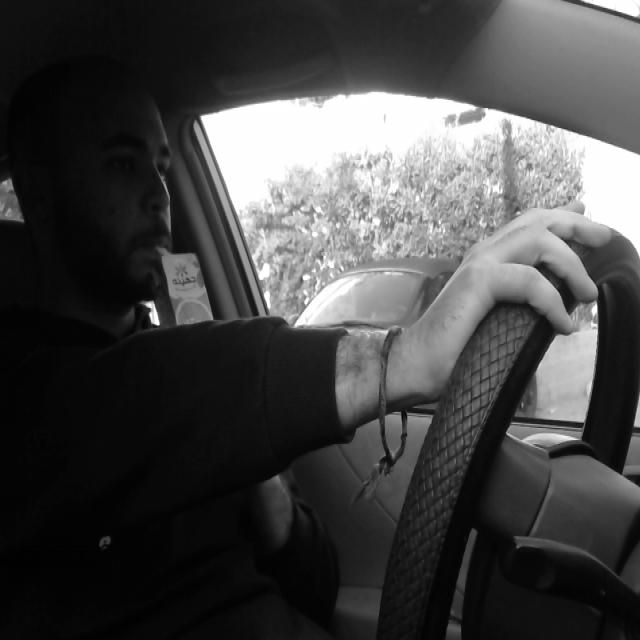drinking: (148, 242, 220, 390)
